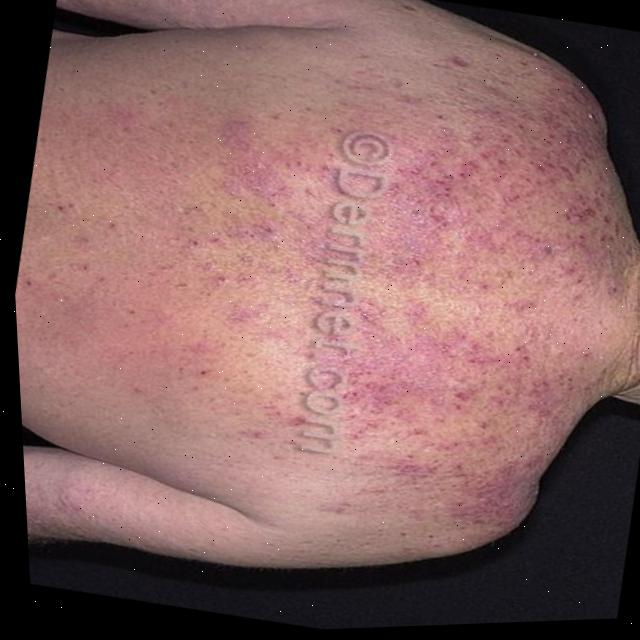Eczema: (112, 0, 640, 558)
